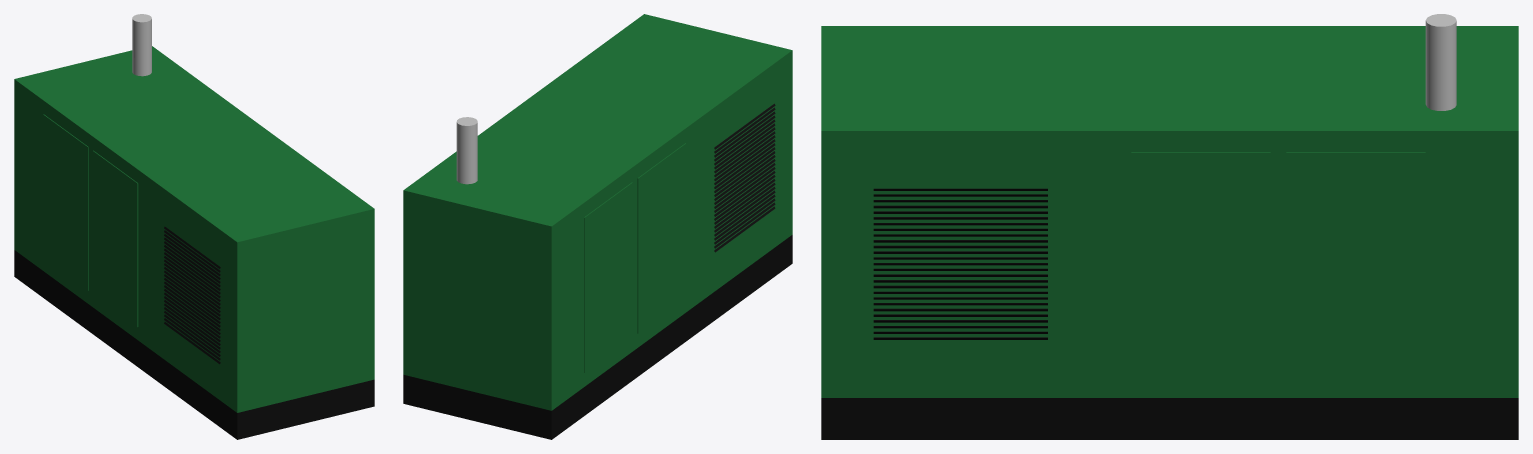
Rendered from services.plant.generator.glb.
The picture shows the model from 3 angles, left to right: view 1: azimuth 30°, elevation 25°; view 2: azimuth 150°, elevation 25°; view 3: azimuth 270°, elevation 25°; orthographic projection. The views are drawn at different scales.
Parts seen in each view (by area): view 1: main__plastic_green, main__plastic_black, main__steel_stainless; view 2: main__plastic_green, main__plastic_black, main__steel_stainless; view 3: main__plastic_green, main__plastic_black, main__steel_stainless.
Boxes of the visible parts, x1=… form: main__plastic_green: x1=14, y1=46, x2=374, y2=412; main__plastic_black: x1=14, y1=226, x2=374, y2=439; main__steel_stainless: x1=132, y1=14, x2=151, y2=76; main__plastic_green: x1=403, y1=14, x2=792, y2=410; main__plastic_black: x1=403, y1=103, x2=792, y2=439; main__steel_stainless: x1=456, y1=117, x2=477, y2=184; main__plastic_green: x1=821, y1=26, x2=1518, y2=397; main__plastic_black: x1=821, y1=188, x2=1518, y2=439; main__steel_stainless: x1=1425, y1=14, x2=1456, y2=110.
Bounding box in the file's own units: 1.62 × 2.8 × 4.5.
